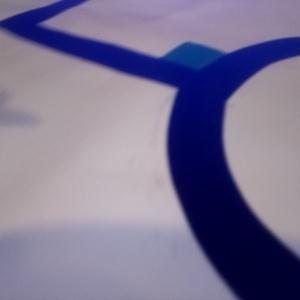top_left: (159, 42, 226, 83)
